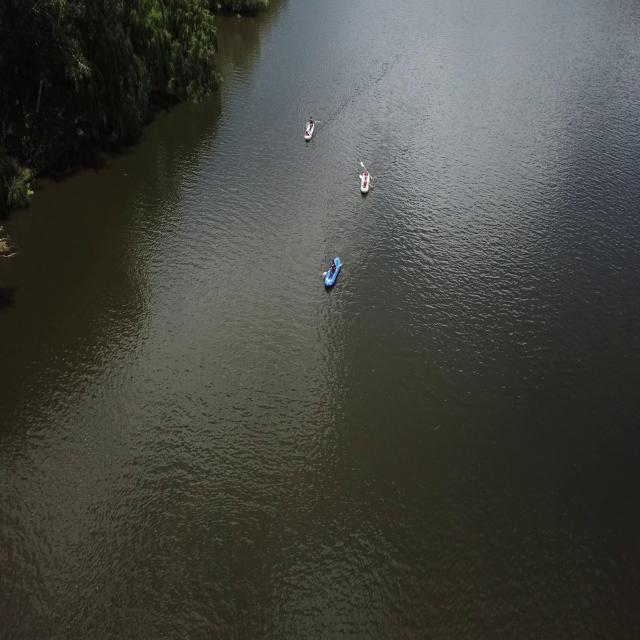kayak: (321, 254, 344, 292), (357, 158, 374, 197), (303, 111, 317, 142)
